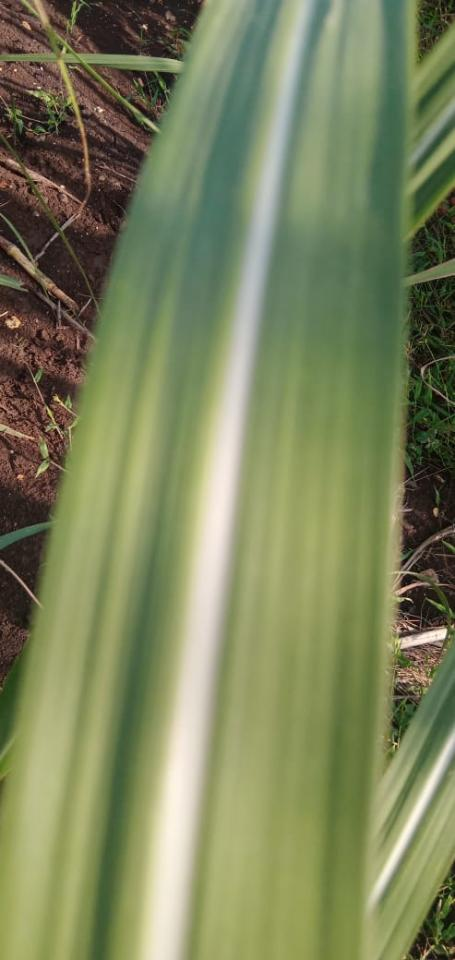Healthy: (1, 0, 414, 959), (367, 636, 454, 959)
